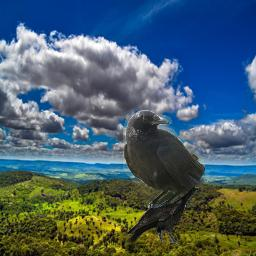Crow: (123, 110, 205, 208), (124, 179, 204, 248)
